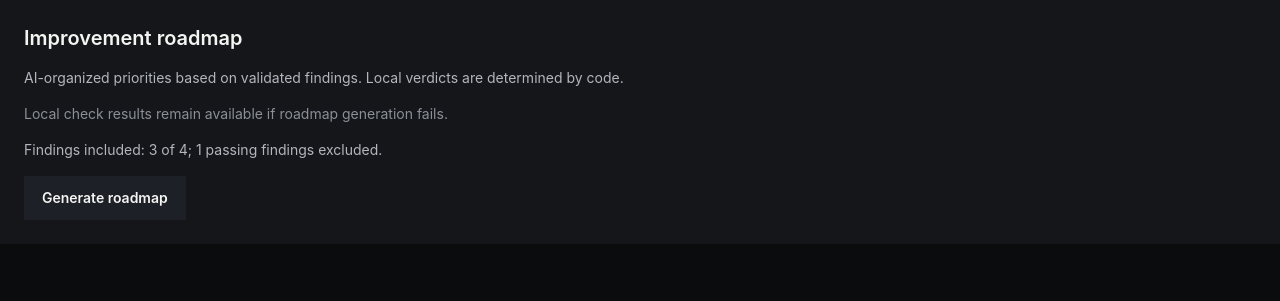
it: unlocks submission after a transport that ignores abort
Click the button "Generate roadmap".
click(105, 198)  # box 24,176 -> 186,220
Wait 10001 ms
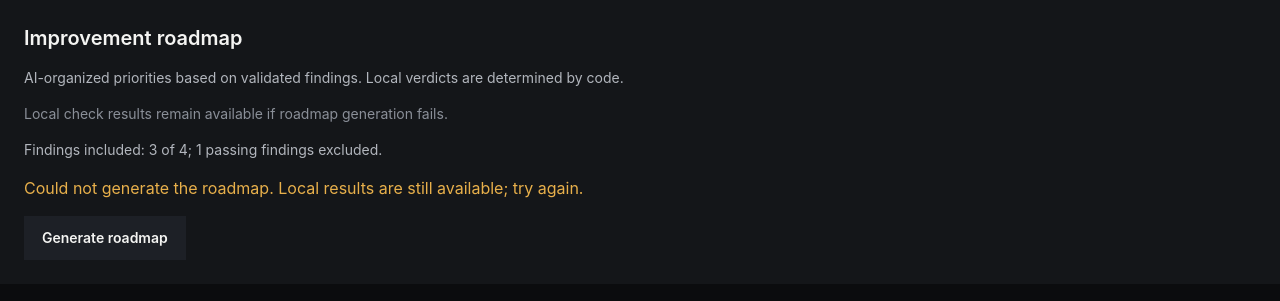
Expected: the button "Generate roadmap" is enabled, 24,216 -> 186,260
Expected: the message "Could not generate the roadmap. Local results are still available; try again." is shown, 24,178 -> 584,198
